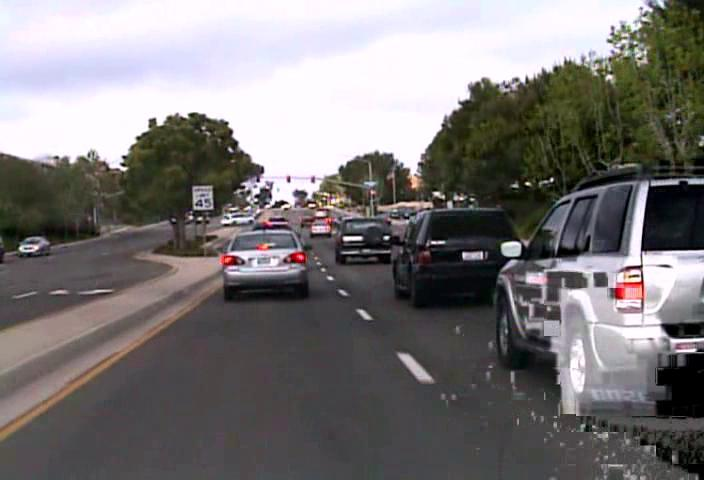speedLimit45: (191, 184, 214, 210)
